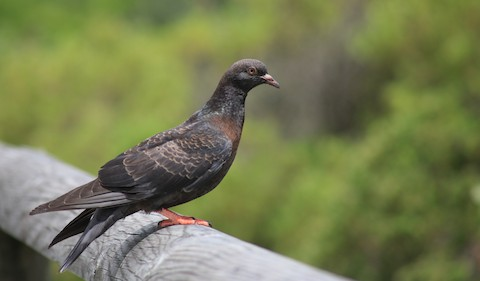pigeon: (25, 57, 282, 272)
